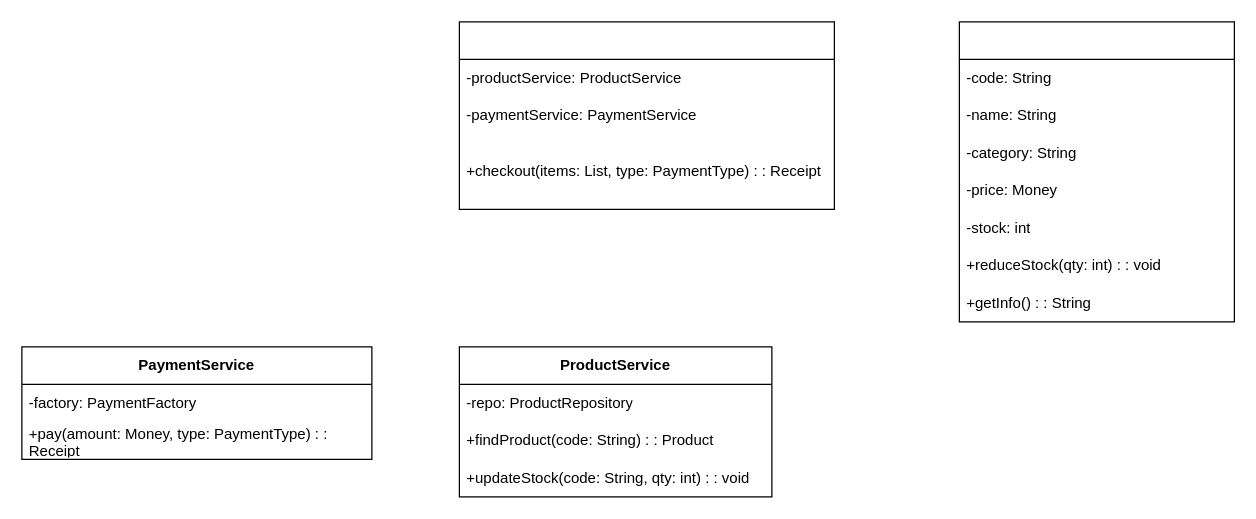
Image size: 1256x519. Some labels were removed from this diagram. The box of each missing label's shape, as (x1, y1, x2, y2) in pixels:
CheckoutService: (458, 21, 834, 209)
Product: (958, 21, 1234, 322)
